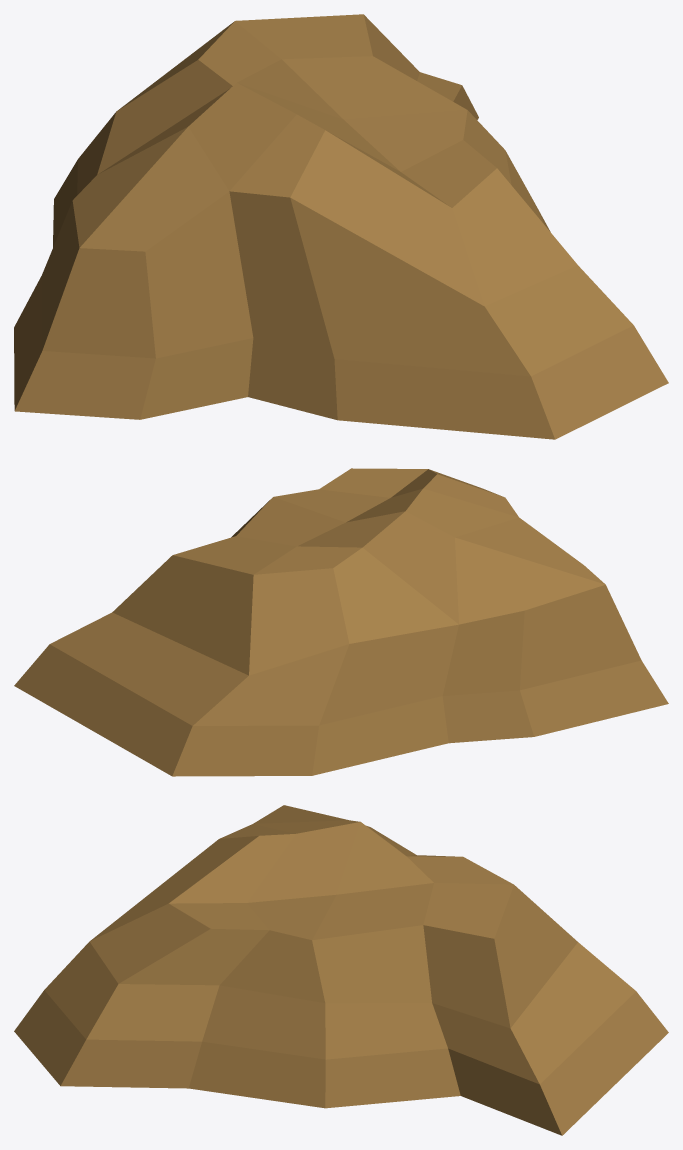
File: MudRocks007.fbx
3 renders of one model, top to bottom at view 1: azimuth 30°, elevation 25°; view 2: azimuth 150°, elevation 25°; view 3: azimuth 270°, elevation 25°, orthographic. The views are drawn at different scales.
Parts seen in each view (by area): view 1: Cube.025; view 2: Cube.025; view 3: Cube.025.
Boxes of the visible parts, x1=… form: Cube.025: x1=14, y1=14, x2=668, y2=439; Cube.025: x1=14, y1=468, x2=668, y2=776; Cube.025: x1=14, y1=805, x2=668, y2=1135.
Size of the model in its own units: 348 by 112 by 387.
